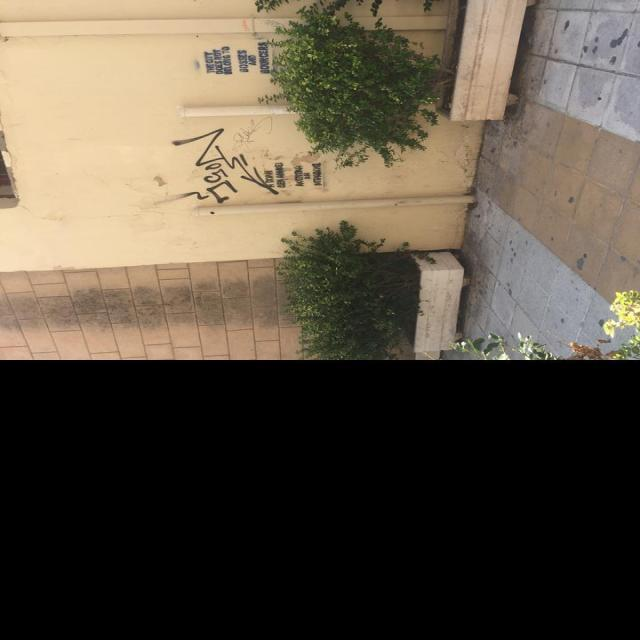nonspitting: (171, 128, 279, 204), (202, 40, 270, 76), (266, 163, 324, 189)
